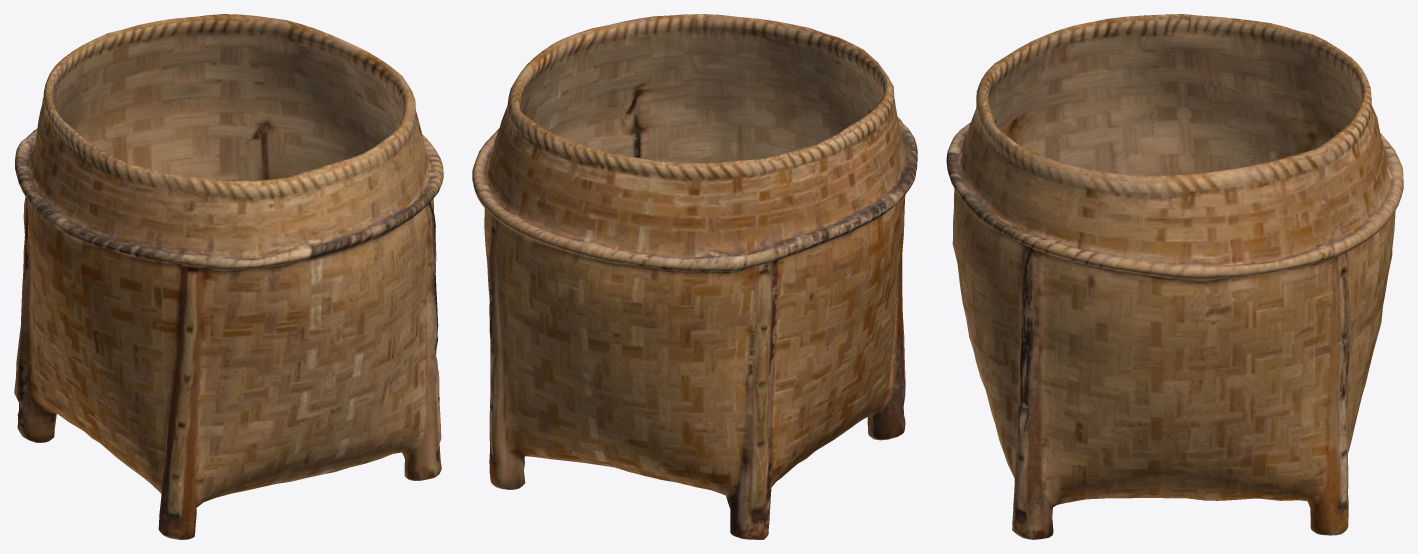
Rendered from ph-wicker-basket.glb.
3 renders of one model, left to right at view 1: azimuth 30°, elevation 25°; view 2: azimuth 150°, elevation 25°; view 3: azimuth 270°, elevation 25°, orthographic. The views are drawn at different scales.
Parts seen in each view (by area): view 1: wicker_basket_02_base; view 2: wicker_basket_02_base; view 3: wicker_basket_02_base.
Part boxes in pixels (bbox=[...]): wicker_basket_02_base: bbox=[14, 14, 443, 539]; wicker_basket_02_base: bbox=[472, 14, 917, 539]; wicker_basket_02_base: bbox=[946, 14, 1403, 539].
Bounding box in the file's own units: 0.2119 × 0.2005 × 0.2163.
1 material, 1 textured.
